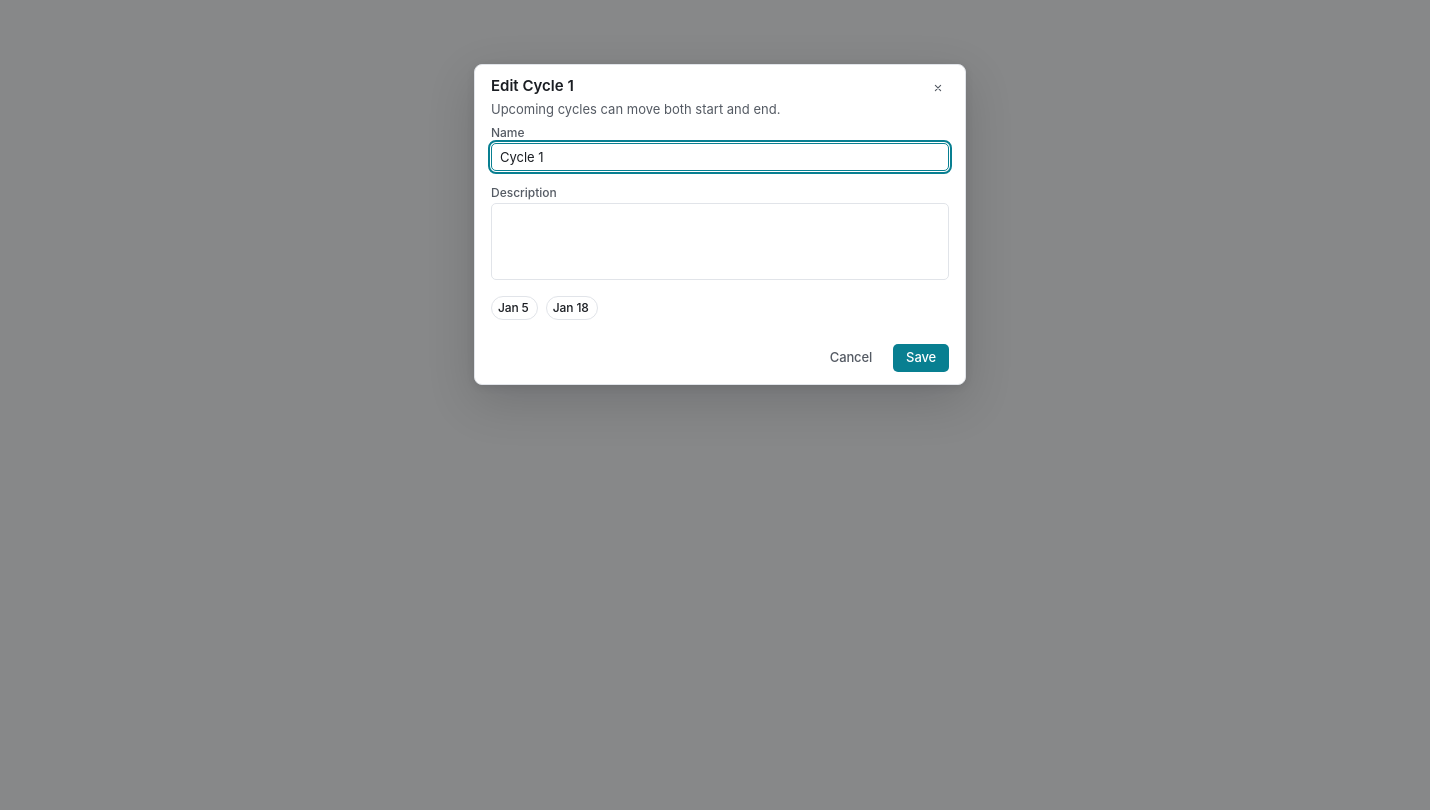
Scenario: CycleEditModal dates › refuses an end that is not after the start, and says so on the field
Click the button "Jan 18" at (572, 308), box [546,296,598,320]
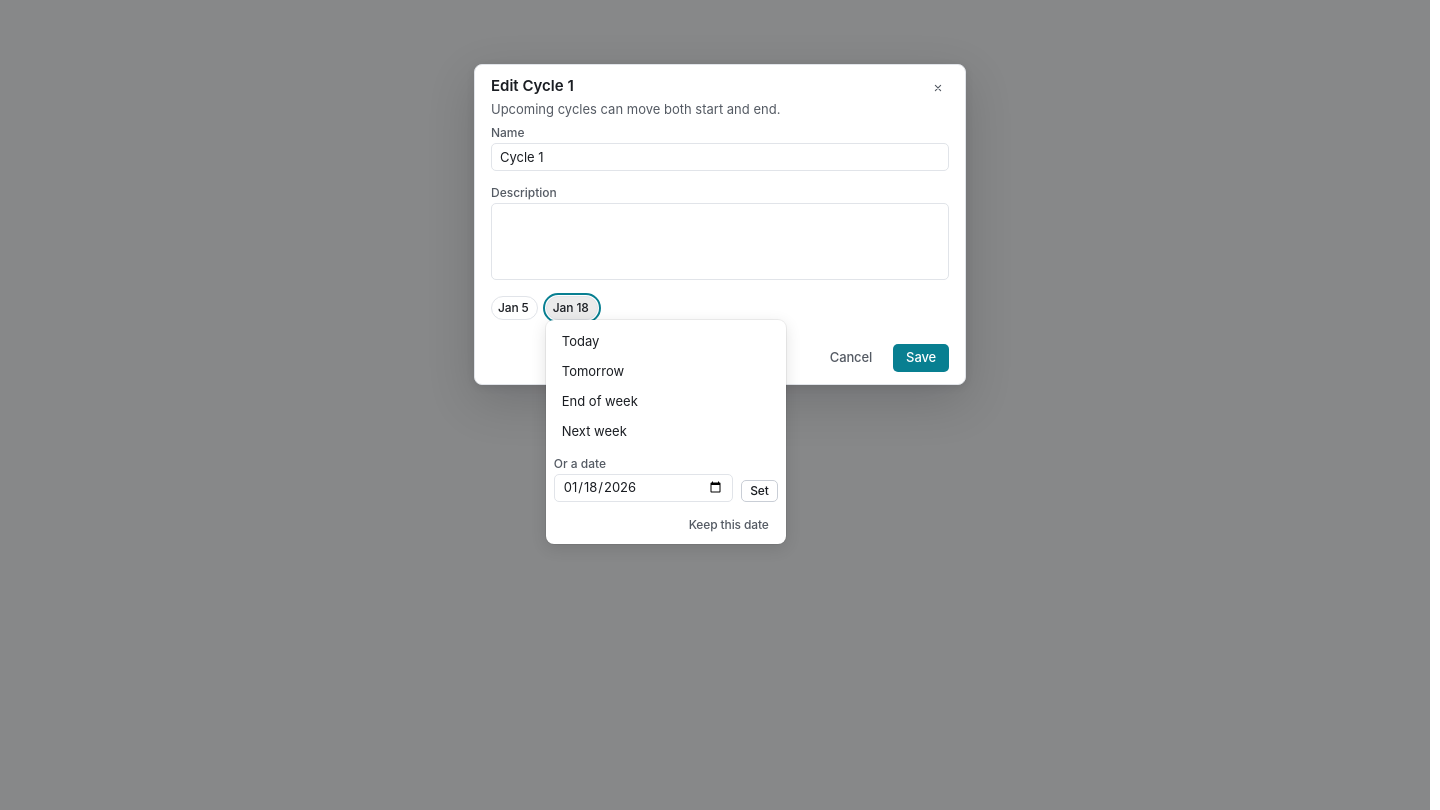
Type "2026-01-02" into the date field labelled "Or a date" at (644, 488), box [563,475,724,501]
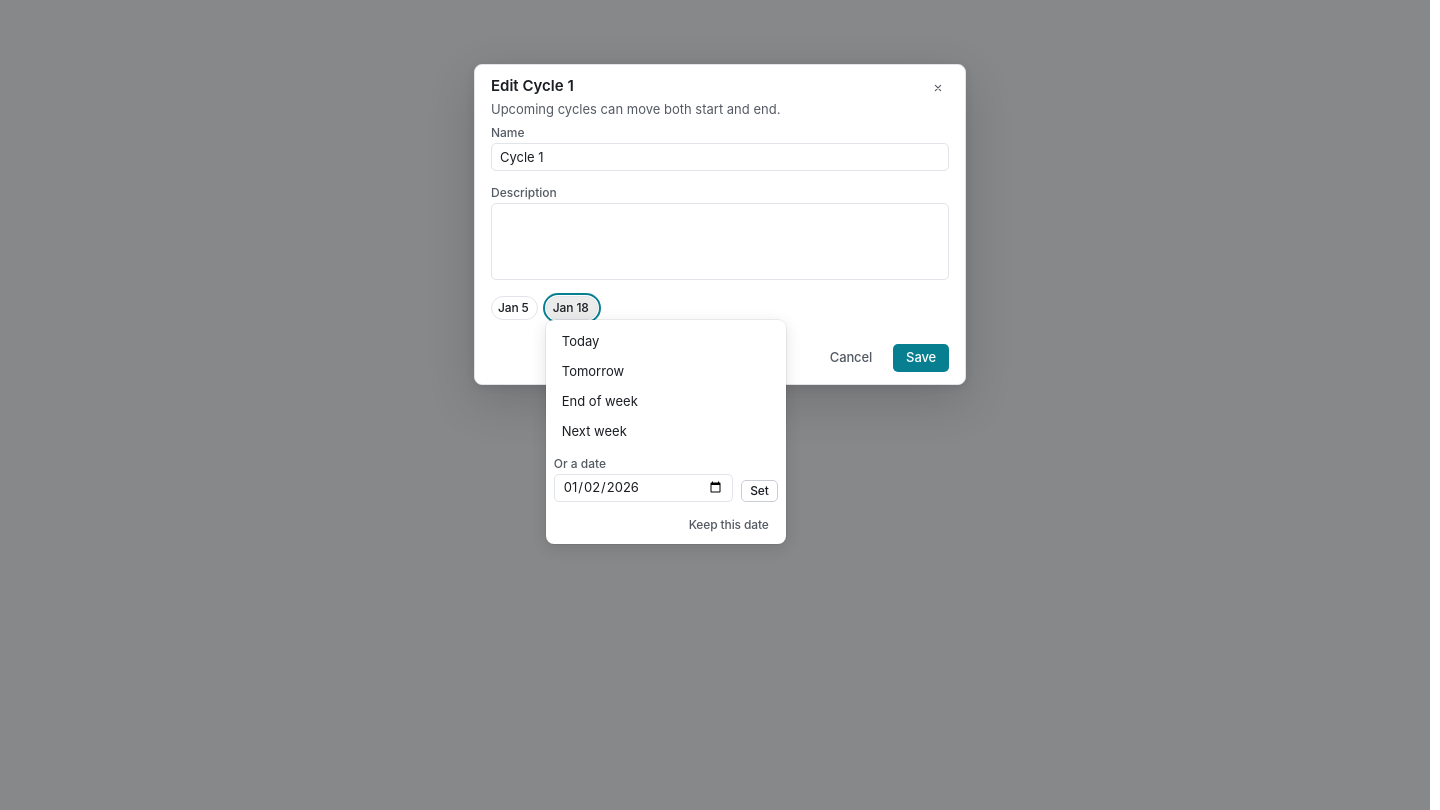
Click the button "Set" at (759, 491), box [741,480,778,502]
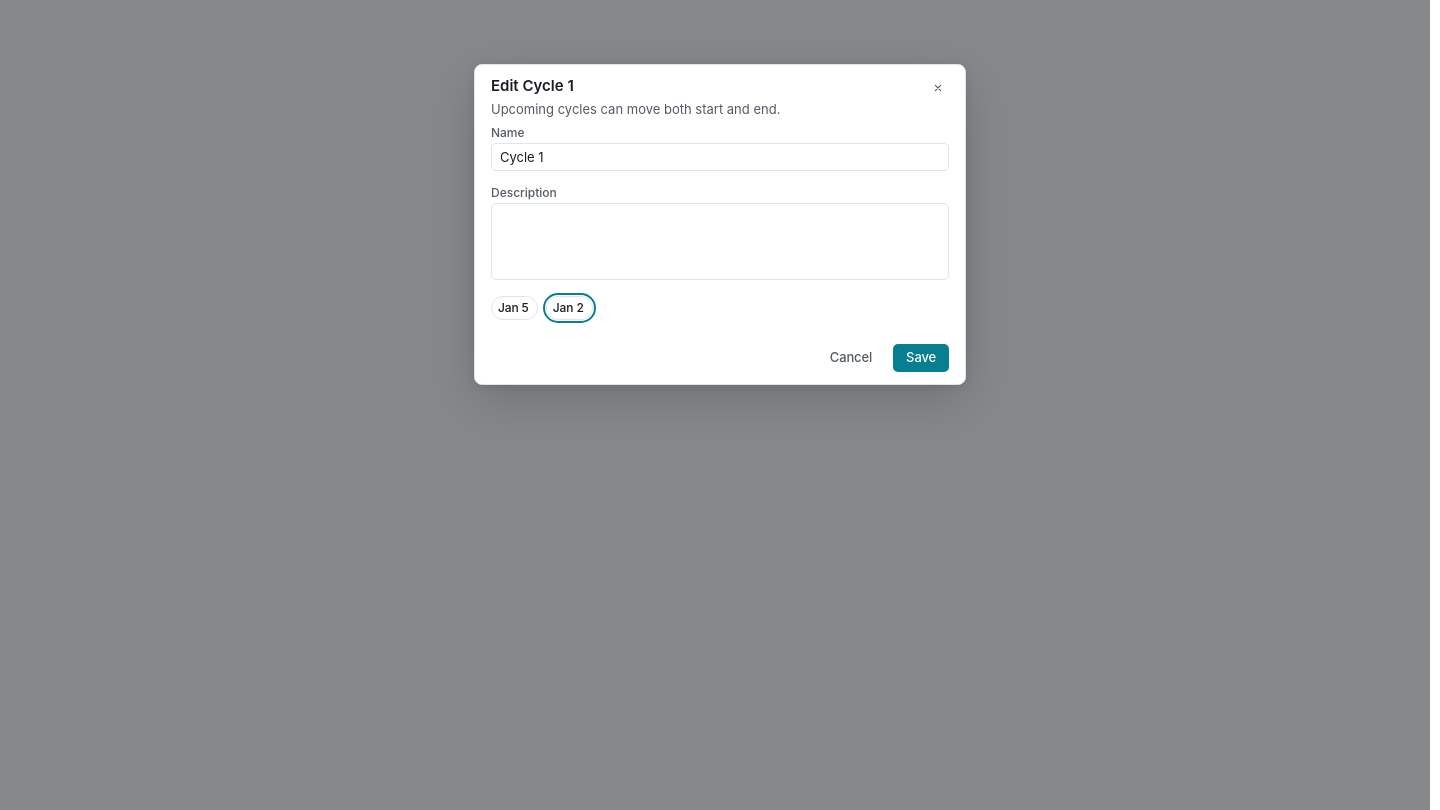
Click the button "Save" at (921, 358), box [893,344,949,372]
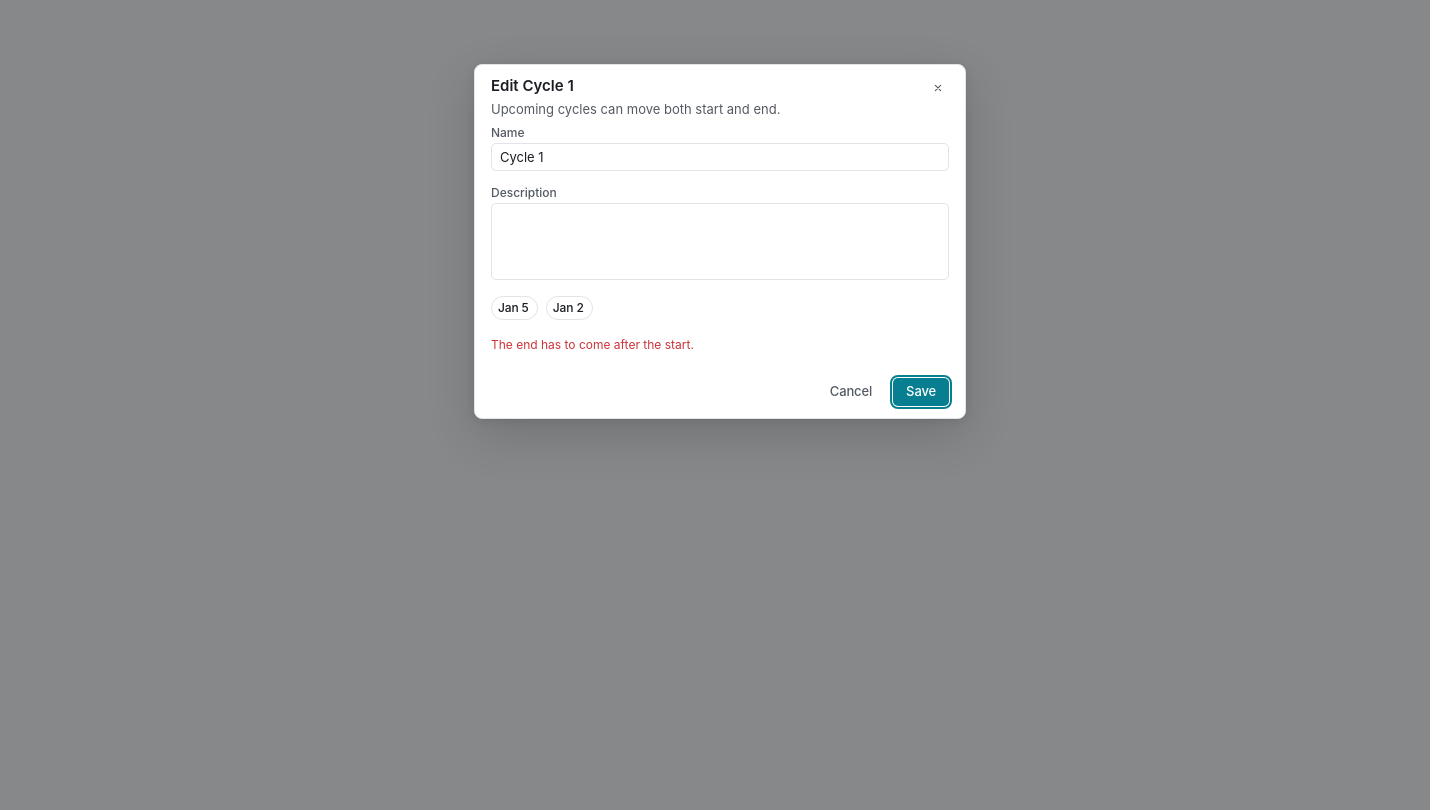
Check: the dialog is shown, box [474,64,966,419]
Check: the text "The end has to come after the start." is shown, box [491,337,694,352]
